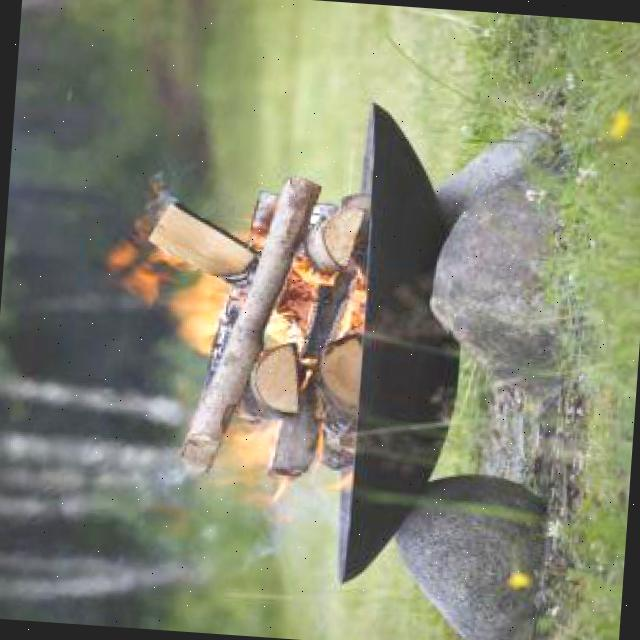fire: (72, 160, 381, 496)
